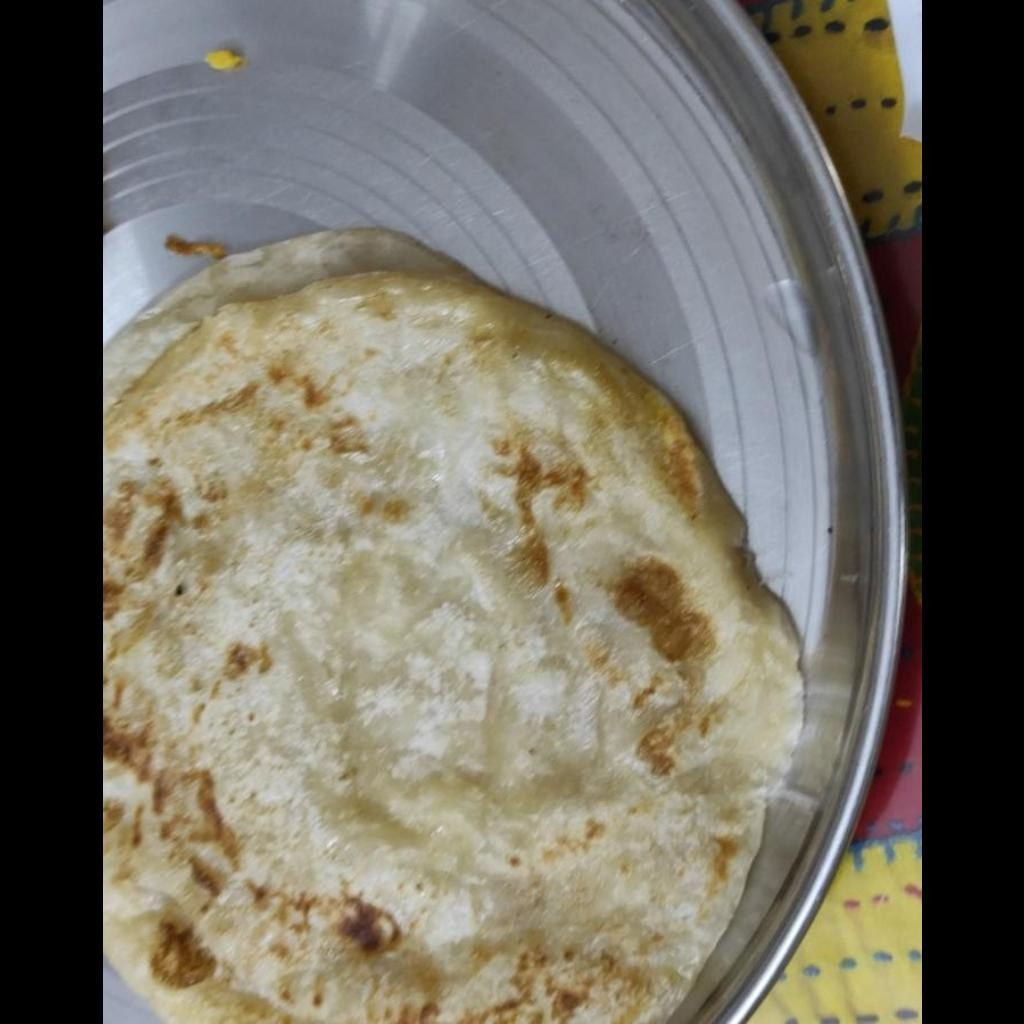ruti: (103, 229, 805, 1022)
